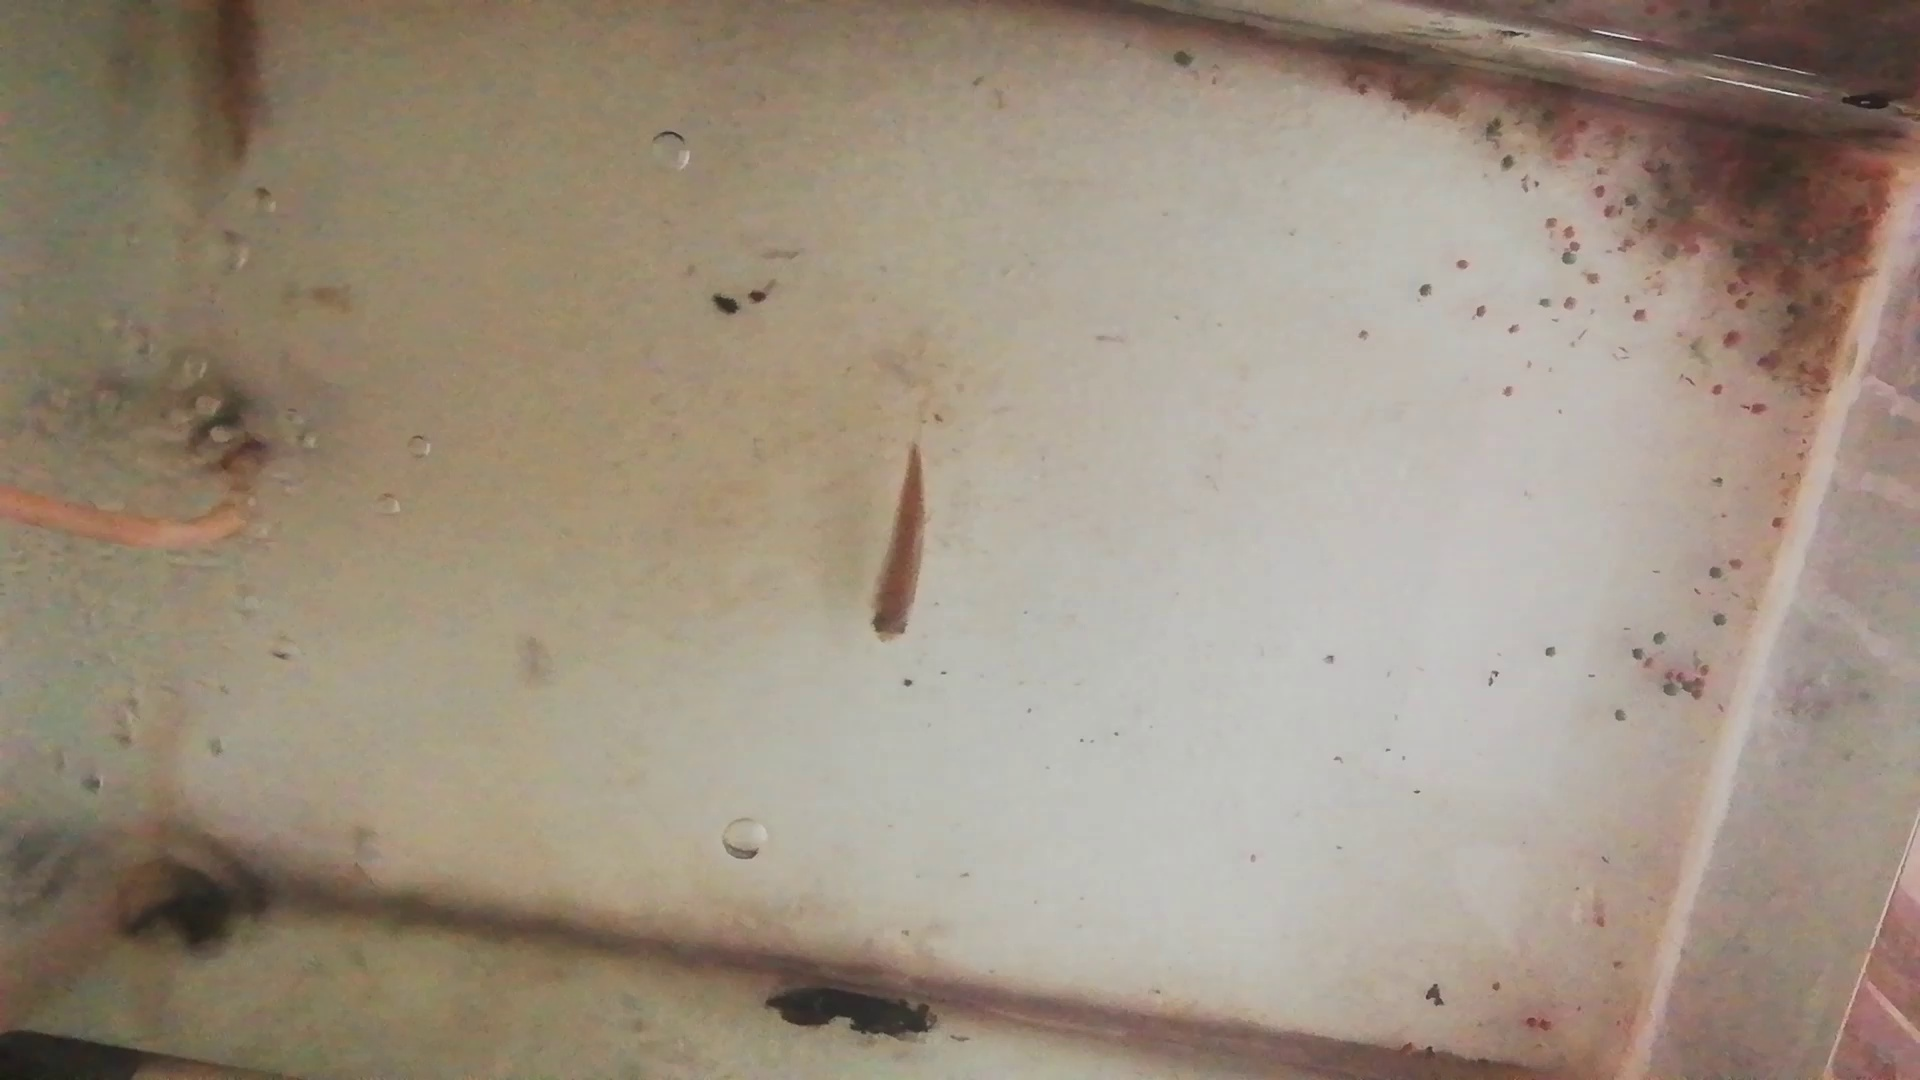fish: (866, 447, 934, 645), (204, 3, 266, 166)
